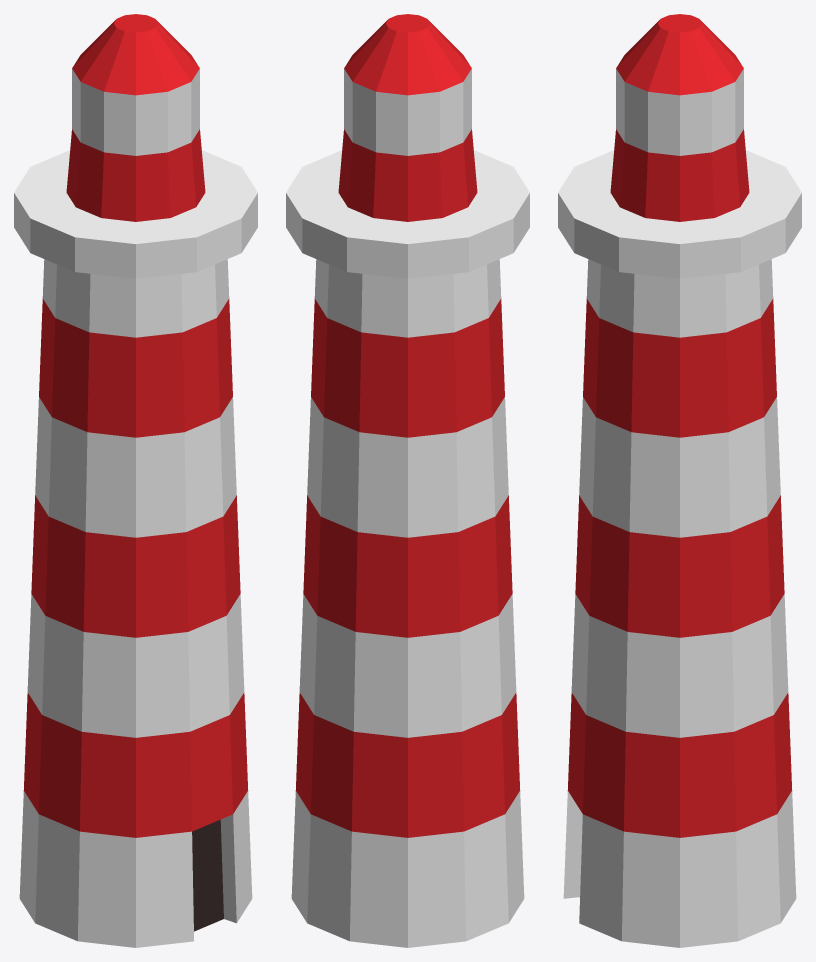
File: Lighthouse.fbx
3 renders of one model, left to right at view 1: azimuth 30°, elevation 25°; view 2: azimuth 150°, elevation 25°; view 3: azimuth 270°, elevation 25°, orthographic.
Visible parts, largest first — view 1: Lighthouse; view 2: Lighthouse; view 3: Lighthouse.
Part boxes in pixels (x1=…): Lighthouse: x1=14, y1=14, x2=257, y2=947; Lighthouse: x1=286, y1=14, x2=529, y2=947; Lighthouse: x1=558, y1=14, x2=801, y2=947.
Size of the model in its own units: 2.6 by 10.31 by 2.6.
